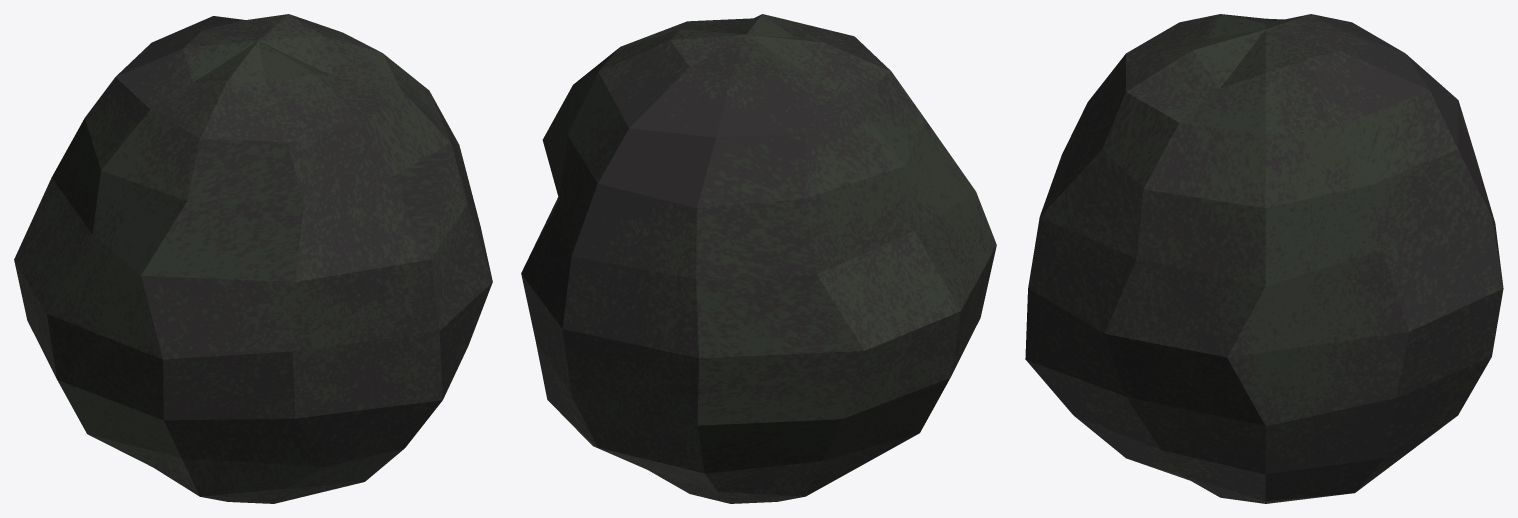
Rendered from Boulder Textured.fbx.
3 views of the same model, side by side, from view 1: azimuth 30°, elevation 25°; view 2: azimuth 150°, elevation 25°; view 3: azimuth 270°, elevation 25° (orthographic). The views are drawn at different scales.
Visible parts, largest first — view 1: Boulder; view 2: Boulder; view 3: Boulder.
Part boxes in pixels (x1,y1,x2,y2): Boulder: [14, 14, 492, 503]; Boulder: [521, 14, 996, 503]; Boulder: [1025, 14, 1503, 503].
Size of the model in its own units: 7.85 by 8 by 7.65.
